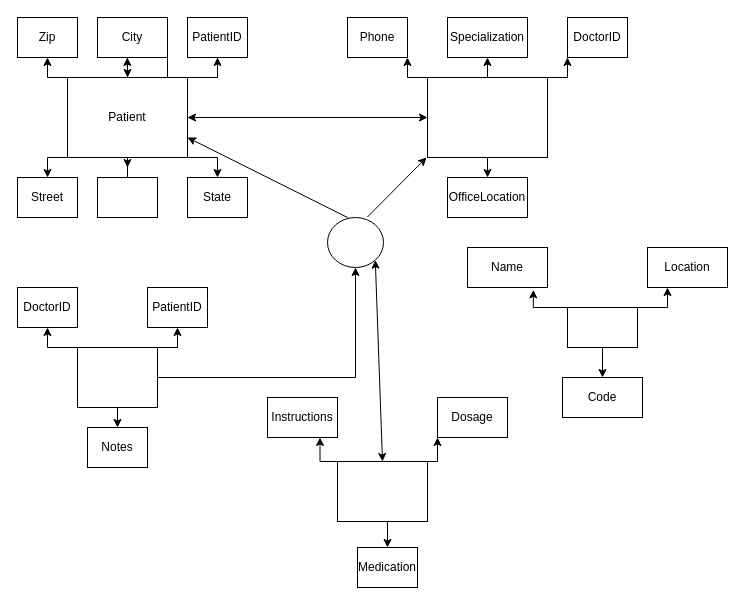
This 745x605 diagram has some shape labels left out. Each missing label, with the centre of its shape:
"Address" goes at (x=127, y=197).
"Appointment" goes at (x=117, y=377).
"Department" goes at (x=602, y=327).
"Doctor" goes at (x=487, y=117).
"LINK" goes at (x=355, y=242).
"Prescription" goes at (x=382, y=491).
